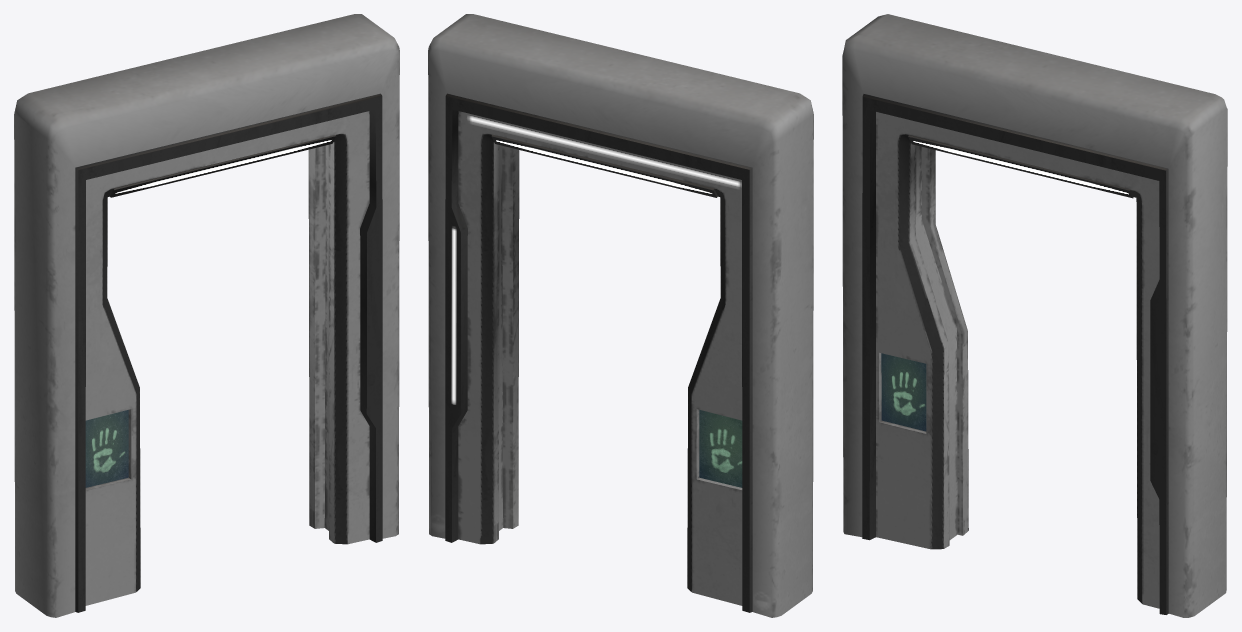
Rendered from SM_Door_03.fbx.
3 views of the same model, side by side, from view 1: azimuth 30°, elevation 25°; view 2: azimuth 150°, elevation 25°; view 3: azimuth 330°, elevation 25° (orthographic).
Visible parts, largest first — view 1: SM_Door_03_LOD0; view 2: SM_Door_03_LOD0; view 3: SM_Door_03_LOD0.
Part boxes in pixels (box(x1,y1,x2,y2)): SM_Door_03_LOD0: box(14, 14, 399, 617); SM_Door_03_LOD0: box(428, 14, 813, 617); SM_Door_03_LOD0: box(842, 14, 1227, 617).
Bounding box in the file's own units: 199 × 43.7 × 270.
